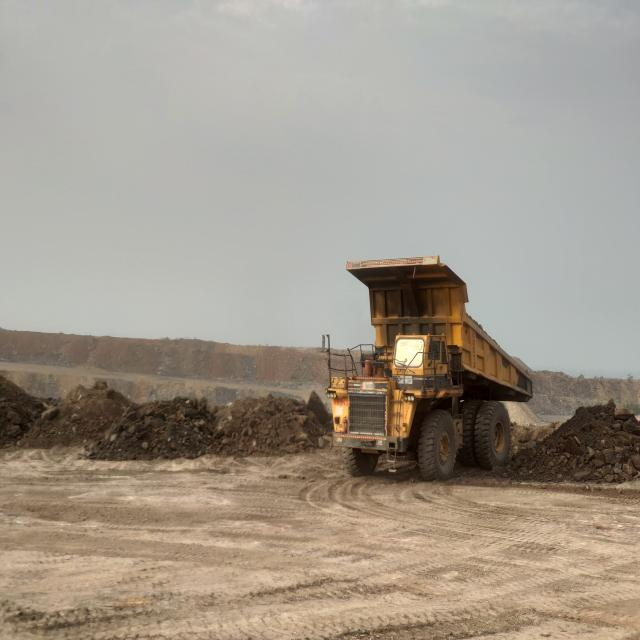dump_truck: (326, 257, 532, 480), (361, 365, 364, 367)
